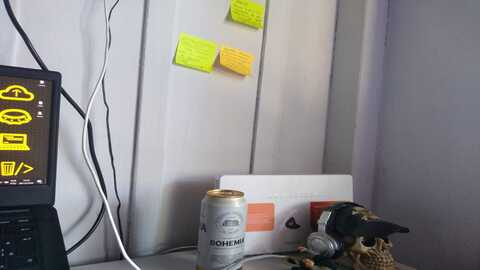bohemia: (197, 185, 251, 270)
